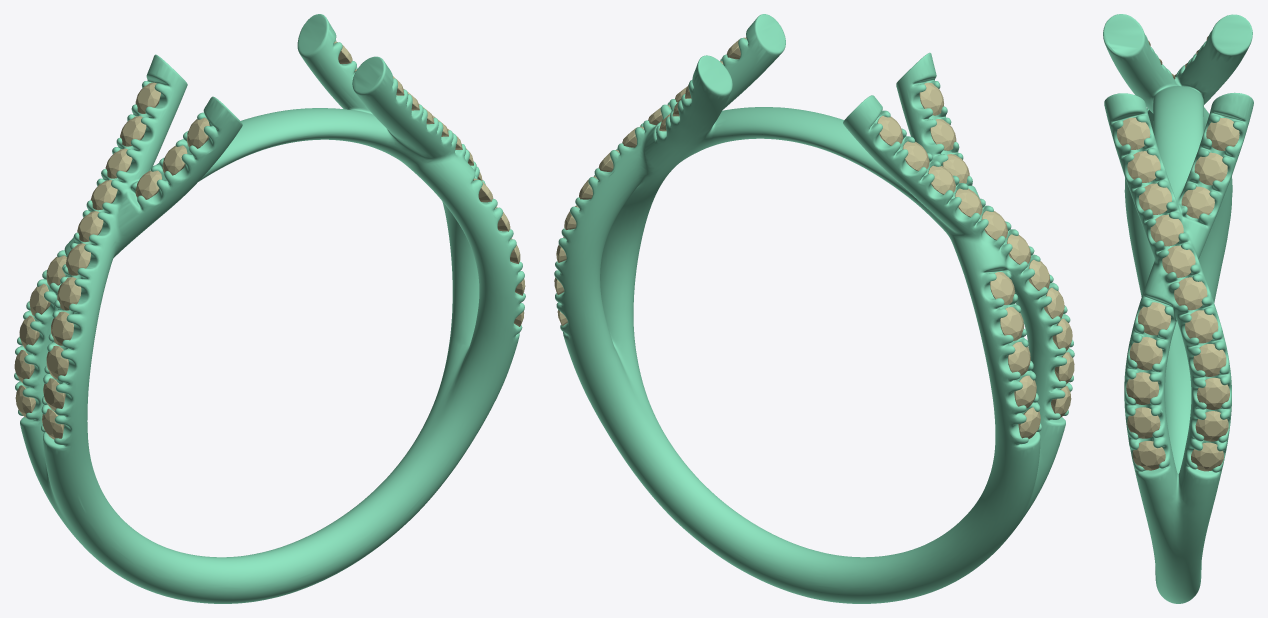
3 views of the same model, side by side, from view 1: azimuth 30°, elevation 25°; view 2: azimuth 150°, elevation 25°; view 3: azimuth 270°, elevation 25° (orthographic). The views are drawn at different scales.
Visible parts, largest first — view 1: Metal02; view 2: Metal02; view 3: Metal02, Diamond_Gem.032, Diamond_Gem.020, Diamond_Gem.025, Diamond_Gem.021, Diamond_Gem.033, Diamond_Gem.026, Diamond_Gem.034, Diamond_Gem.024, Diamond_Gem.031, Diamond_Gem.027, Diamond_Gem.019 (+8 smaller).
Part boxes in pixels (<box>): Metal02: <box>14,14,525,603</box>; Metal02: <box>554,14,1074,603</box>; Metal02: <box>1103,14,1253,603</box>; Diamond_Gem.032: <box>1174,277,1207,310</box>; Diamond_Gem.020: <box>1194,152,1227,185</box>; Diamond_Gem.025: <box>1129,337,1162,370</box>; Diamond_Gem.021: <box>1206,118,1239,150</box>; Diamond_Gem.033: <box>1185,310,1218,343</box>; Diamond_Gem.026: <box>1138,302,1170,335</box>; Diamond_Gem.034: <box>1193,344,1226,376</box>; Diamond_Gem.024: <box>1126,372,1159,404</box>; Diamond_Gem.031: <box>1162,245,1195,277</box>; Diamond_Gem.027: <box>1117,117,1150,149</box>; Diamond_Gem.019: <box>1181,186,1214,218</box>.
Size of the model in its own units: 21.08 by 22.69 by 5.9.
